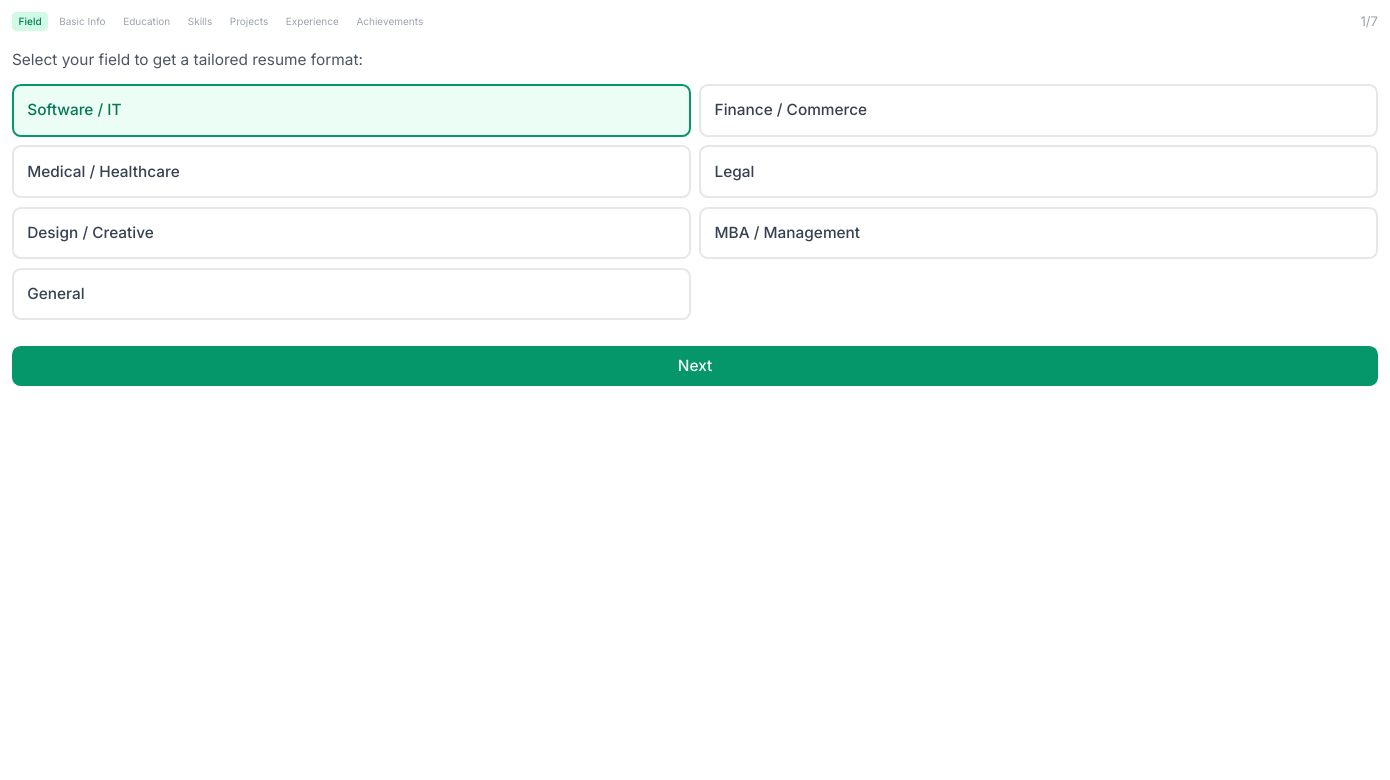
Test: FresherWizard › advances to basic info after picking a profession
Click the button "Software / IT".
click(74, 110)  # box [12,84,691,137]
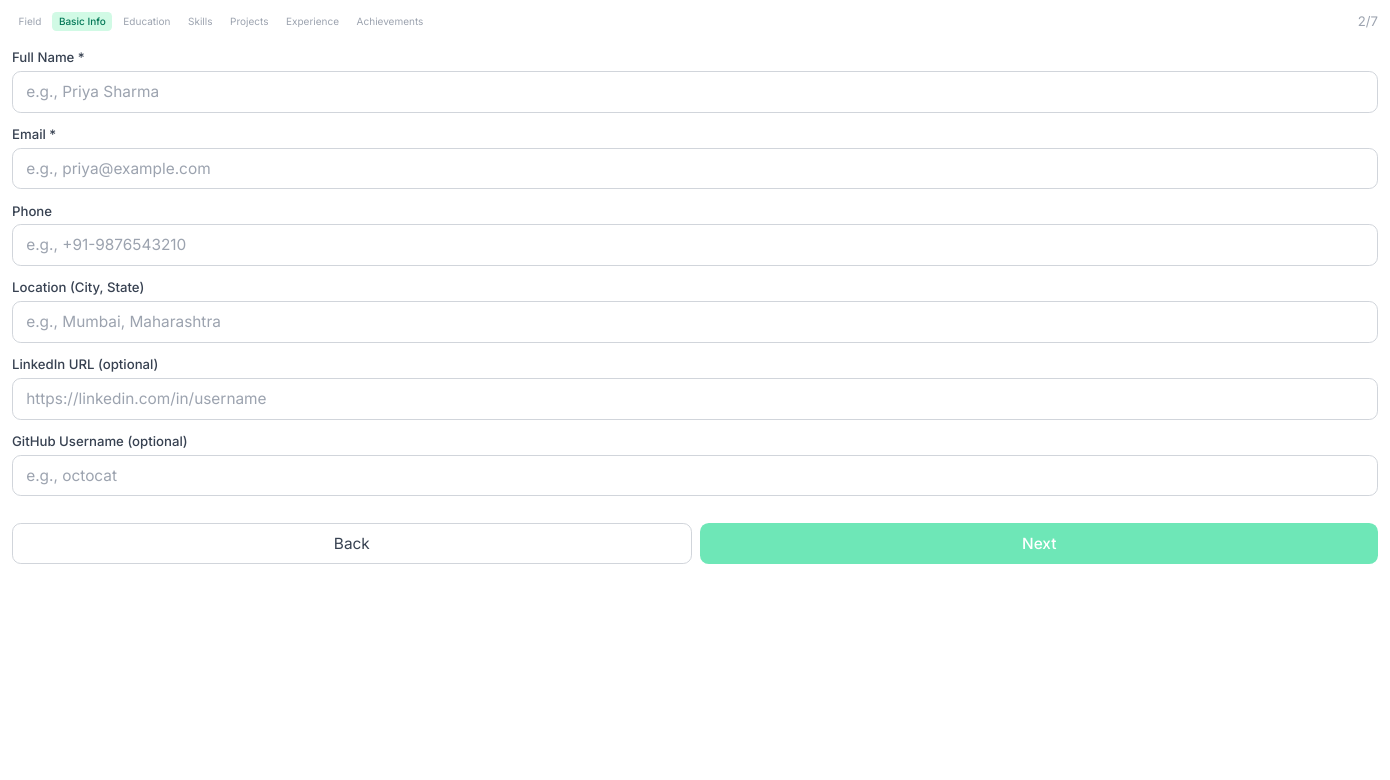
Expected: the text "Full Name *" is shown, [12,49,85,65]
